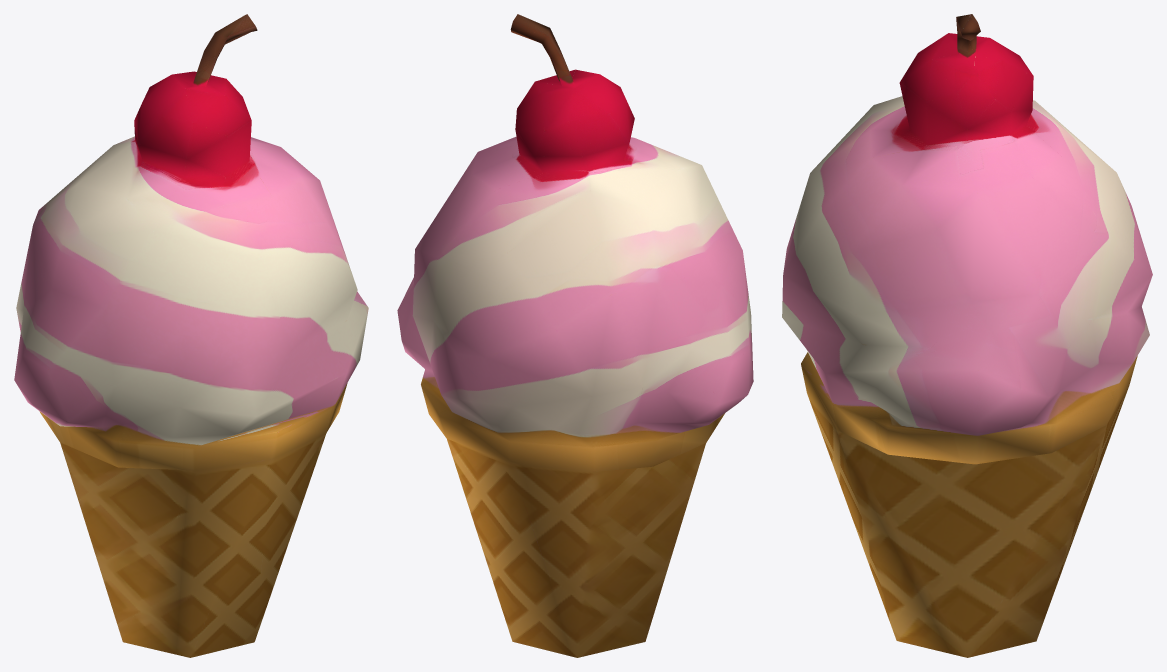
The model's file is source.fbx.
3 renders of one model, left to right at view 1: azimuth 30°, elevation 25°; view 2: azimuth 150°, elevation 25°; view 3: azimuth 270°, elevation 25°, orthographic. The views are drawn at different scales.
Parts seen in each view (by area): view 1: Mesh_0; view 2: Mesh_0; view 3: Mesh_0.
Part boxes in pixels (left/top/right/bottom): Mesh_0: left=14, top=14, right=368, bottom=657; Mesh_0: left=397, top=14, right=753, bottom=657; Mesh_0: left=782, top=14, right=1152, bottom=657.
Size of the model in its own units: 10.21 by 18 by 9.49.
Materials: 1 (1 with a texture image).
